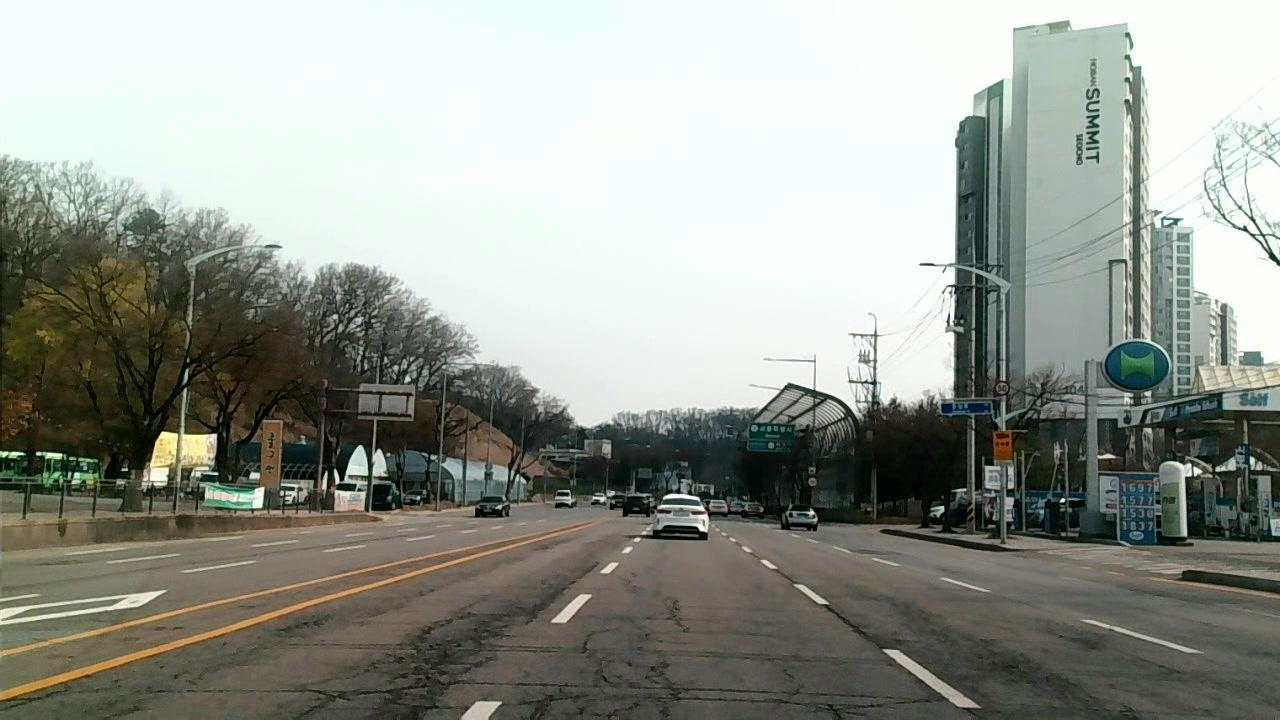banner: (966, 638, 1125, 720), (357, 617, 456, 720), (588, 630, 664, 720), (661, 693, 942, 709), (461, 600, 544, 647), (143, 686, 333, 698), (450, 677, 587, 691), (822, 605, 871, 640), (272, 612, 336, 637), (525, 693, 555, 720)
